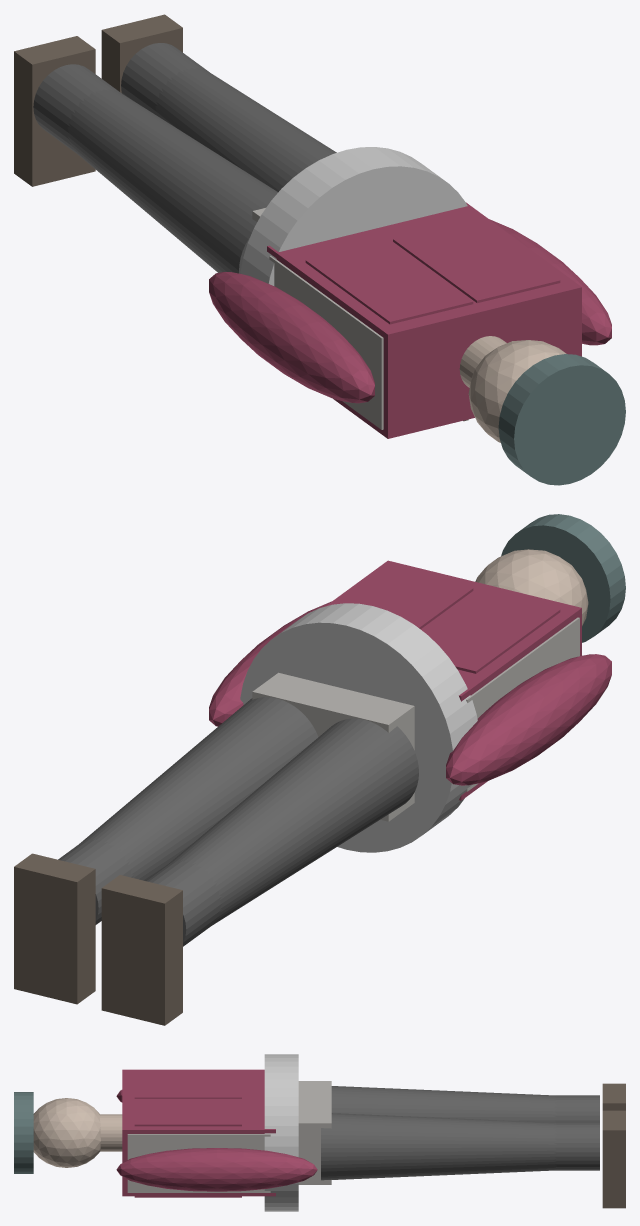
Rendered from MASTER_010_STAGE3_DETAIL.glb.
3 views of the same model, one above another, from view 1: azimuth 30°, elevation 25°; view 2: azimuth 150°, elevation 25°; view 3: azimuth 270°, elevation 25° (orthographic). The views are drawn at different scales.
Visible parts, largest first — view 1: slot_upper_inner__këmishë, slot_lower_main__xhedikë_L, slot_waist__brez, slot_headwear__mbulesë_koke, slot_upper_inner_sleeve_L, slot_lower_main__xhedikë_R, slot_upper_outer__jelek/xhamadan_L, slot_upper_outer__jelek/xhamadan_R, slot_footwear__opinga_L, mannequin_torso, mannequin_head, slot_legwear__çorape_L (+4 smaller); view 2: slot_lower_main__xhedikë_L, slot_waist__brez, slot_lower_main__xhedikë_R, slot_footwear__opinga_R, slot_footwear__opinga_L, slot_upper_inner_sleeve_L, slot_headwear__mbulesë_koke, slot_upper_outer__jelek/xhamadan_L, mannequin_hips, slot_upper_inner__këmishë, mannequin_head, slot_upper_outer__jelek/xhamadan_R (+4 smaller); view 3: slot_lower_main__xhedikë_R, slot_upper_inner_sleeve_R, slot_lower_main__xhedikë_L, slot_upper_inner__këmishë, slot_waist__brez, mannequin_head, slot_upper_outer__jelek/xhamadan_R, slot_upper_outer__jelek/xhamadan_L, mannequin_torso, mannequin_hips, slot_footwear__opinga_R, slot_legwear__çorape_R (+4 smaller).
Part boxes in pixels (<box>): slot_upper_inner__këmishë: <box>267,202,581,438</box>; slot_lower_main__xhedikë_L: <box>67,89,277,273</box>; slot_waist__brez: <box>240,147,467,285</box>; slot_headwear__mbulesë_koke: <box>498,354,625,485</box>; slot_upper_inner_sleeve_L: <box>209,272,374,403</box>; slot_lower_main__xhedikë_R: <box>155,68,336,192</box>; slot_upper_outer__jelek/xhamadan_L: <box>305,240,473,324</box>; slot_upper_outer__jelek/xhamadan_R: <box>393,219,560,303</box>; slot_footwear__opinga_L: <box>14,36,95,186</box>; mannequin_torso: <box>269,256,383,429</box>; mannequin_head: <box>468,340,566,442</box>; slot_legwear__çorape_L: <box>33,64,121,154</box>; slot_lower_main__xhedikë_L: <box>167,718,418,925</box>; slot_waist__brez: <box>240,603,477,852</box>; slot_lower_main__xhedikë_R: <box>79,697,318,880</box>; slot_footwear__opinga_R: <box>14,853,95,1004</box>; slot_footwear__opinga_L: <box>101,875,182,1025</box>; slot_upper_inner_sleeve_L: <box>446,654,611,785</box>; slot_headwear__mbulesë_koke: <box>501,514,625,642</box>; slot_upper_outer__jelek/xhamadan_L: <box>422,589,560,673</box>; mannequin_hips: <box>252,672,414,821</box>; slot_upper_inner__këmishë: <box>325,560,581,800</box>; mannequin_head: <box>475,549,588,626</box>; slot_upper_outer__jelek/xhamadan_R: <box>342,568,473,629</box>; slot_lower_main__xhedikë_R: <box>321,1113,556,1180</box>; slot_upper_inner_sleeve_R: <box>116,1148,317,1191</box>; slot_lower_main__xhedikë_L: <box>331,1086,556,1122</box>; slot_upper_inner__këmishë: <box>122,1069,275,1196</box>; slot_waist__brez: <box>264,1054,298,1211</box>; mannequin_head: <box>33,1098,100,1167</box>; slot_upper_outer__jelek/xhamadan_R: <box>134,1098,241,1197</box>; slot_upper_outer__jelek/xhamadan_L: <box>134,1071,241,1098</box>; mannequin_torso: <box>127,1134,270,1192</box>; mannequin_hips: <box>298,1081,331,1184</box>; slot_footwear__opinga_R: <box>602,1110,625,1208</box>; slot_legwear__çorape_R: <box>554,1122,599,1170</box>.
Bounding box in the file's own units: 0.6103 × 0.44 × 1.71.
